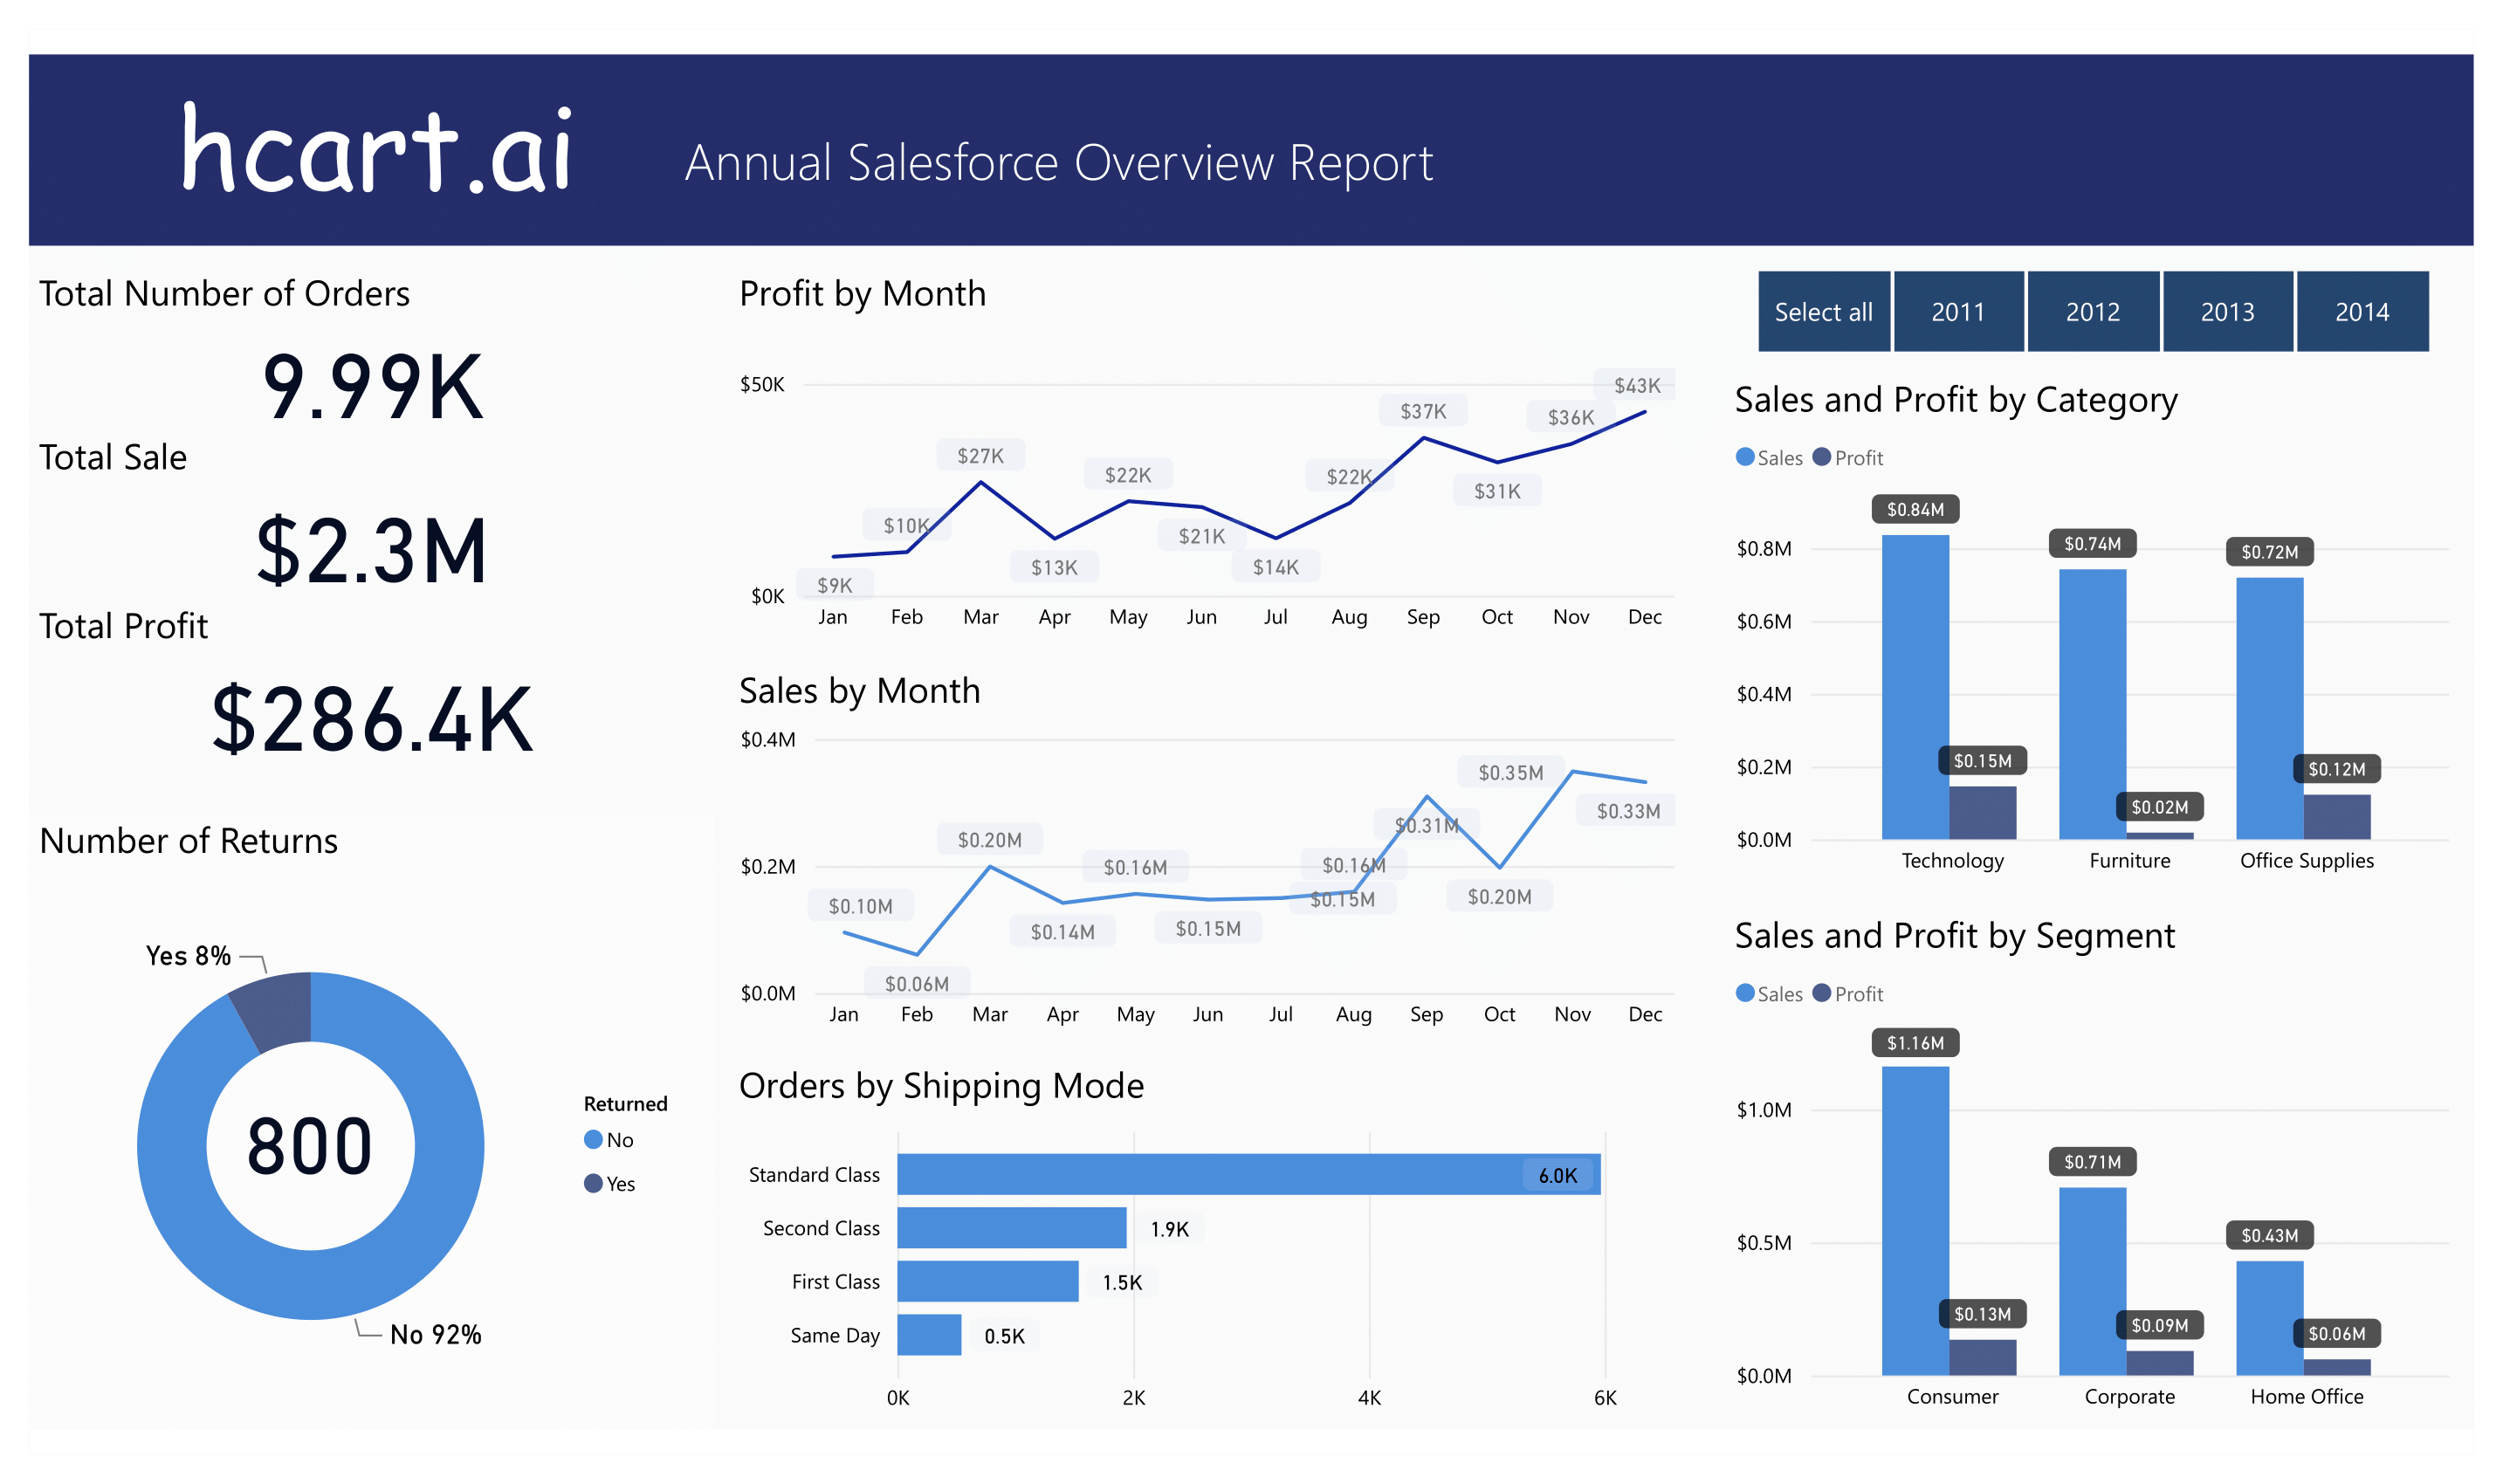

This screenshot's page, from the dashboard's own definition file:
{"tool":"powerbi","page":{"name":"Page 1","canvas":[1280,720],"ordinal":0},"visuals":[{"type":"shape","box":[0,0,1280.3,100.4],"z":0},{"type":"clusteredColumnChart","fields":{"Category":["Superstore.Segment"],"Y":["Sum(Superstore.Sales)","Sum(Superstore.Profit)"]},"box":[888.2,447.7,383.6,272.3],"z":1000},{"type":"donutChart","title":"Number of Returns","fields":{"Category":["Superstore.Returned"],"Y":["CountNonNull(Superstore.Order ID)"]},"box":[0,398.1,359.4,321.9],"z":2000},{"type":"card","title":"Total Number of Orders","fields":{"Values":["CountNonNull(Superstore.Order ID)"]},"box":[0,111.1,359.4,88.3],"z":3000},{"type":"card","title":"Total Sale","fields":{"Values":["Sum(Superstore.Sales)"]},"box":[0,197,359.4,88.3],"z":4000},{"type":"card","title":"Total Profit","fields":{"Values":["Sum(Superstore.Profit)"]},"box":[0,285.4,359.4,88.3],"z":5000},{"type":"slicer","title":"Year","fields":{"Values":["Superstore.Order Date.Variation.Date Hierarchy.Year"]},"box":[879.5,106.5,400.5,55.7],"z":6000},{"type":"lineChart","title":"Sales by Month","fields":{"Y":["Sum(Superstore.Sales)"],"Category":["Superstore.MonthName"]},"box":[366.7,319.5,499.8,199.7],"z":7000},{"type":"lineChart","title":"Profit by Month","fields":{"Y":["Sum(Superstore.Profit)"],"Category":["Superstore.MonthName"]},"box":[366.7,111.3,500,200],"z":8000},{"type":"card","fields":{"Values":["CountNonNull(Superstore.Returned)"]},"box":[93.2,526.4,107.7,81.1],"z":9000},{"type":"clusteredBarChart","title":"Orders by Shipping Mode","fields":{"Category":["Superstore.Ship Mode"],"Y":["CountNonNull(Superstore.Order ID)"]},"box":[366.7,526.4,499.8,193.6],"z":10000},{"type":"clusteredColumnChart","fields":{"Category":["Superstore.Category"],"Y":["Sum(Superstore.Sales)","Sum(Superstore.Profit)"]},"box":[888.2,167,383.6,272.3],"z":11000},{"type":"textbox","box":[35.1,0,294.1,106.5],"z":12000},{"type":"textbox","box":[337.6,31.5,452.6,52],"z":13000}]}

Visuals, with their boxes on the page's 1280x720 design canvas (x1, y1, x2, y2). These are canvas units, not pixel positions in the 2503x1484 screenshot, which may show the page scaled, cropped or inside an application window:
shape: 0,0,1280,100
clusteredColumnChart - Superstore.Segment x Sum(Superstore.Sales): 888,448,1272,720
"Number of Returns" donutChart: 0,398,359,720
"Total Number of Orders" card: 0,111,359,199
"Total Sale" card: 0,197,359,285
"Total Profit" card: 0,285,359,374
"Year" slicer: 880,106,1280,162
"Sales by Month" lineChart: 367,320,866,519
"Profit by Month" lineChart: 367,111,867,311
card - CountNonNull(Superstore.Returned): 93,526,201,608
"Orders by Shipping Mode" clusteredBarChart: 367,526,866,720
clusteredColumnChart - Superstore.Category x Sum(Superstore.Sales): 888,167,1272,439
textbox: 35,0,329,106
textbox: 338,32,790,84
